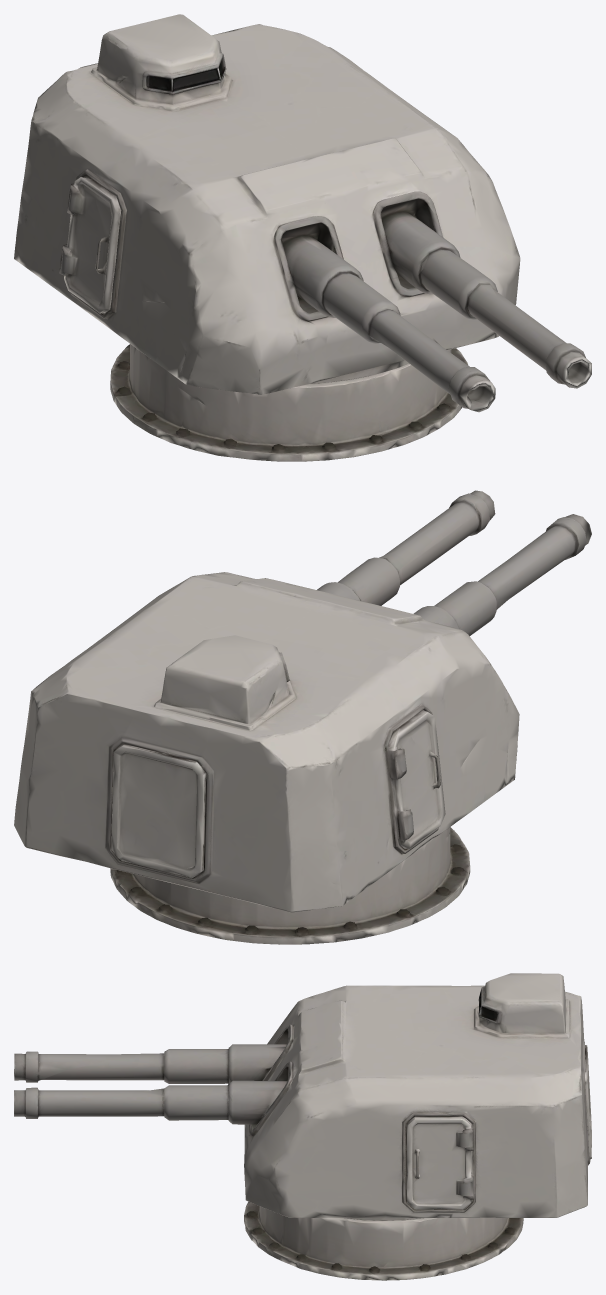
The model's file is turret.glb.
The picture shows the model from 3 angles, top to bottom: view 1: azimuth 30°, elevation 25°; view 2: azimuth 150°, elevation 25°; view 3: azimuth 270°, elevation 25°; orthographic projection. The views are drawn at different scales.
Parts seen in each view (by area): view 1: tripo_node_63d08248-643a-48bc-8705-3acbe81e36b6; view 2: tripo_node_63d08248-643a-48bc-8705-3acbe81e36b6; view 3: tripo_node_63d08248-643a-48bc-8705-3acbe81e36b6.
Boxes of the visible parts, left/top/right/bottom form: tripo_node_63d08248-643a-48bc-8705-3acbe81e36b6: left=14, top=14, right=591, bottom=461; tripo_node_63d08248-643a-48bc-8705-3acbe81e36b6: left=14, top=490, right=591, bottom=944; tripo_node_63d08248-643a-48bc-8705-3acbe81e36b6: left=14, top=973, right=591, bottom=1280.
Bounding box in the file's own units: 8.97 × 7.02 × 16.52.
1 material, 1 textured.
